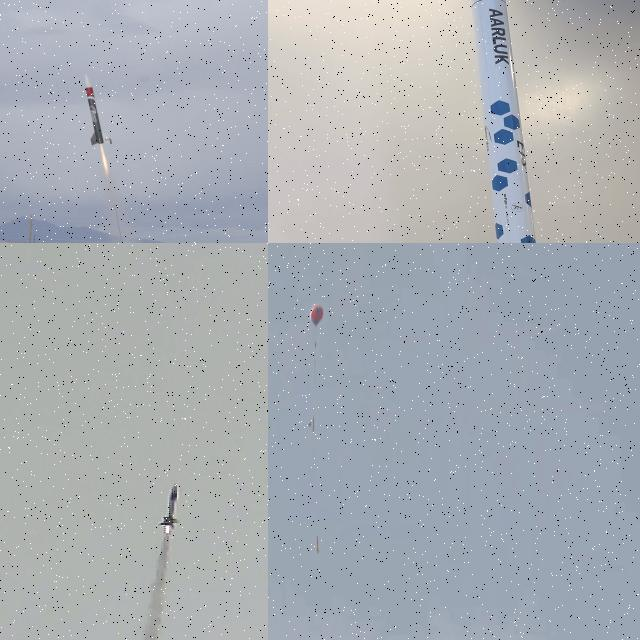Rocket: (470, 0, 537, 243), (82, 74, 114, 146), (158, 482, 182, 528), (316, 534, 319, 553)
